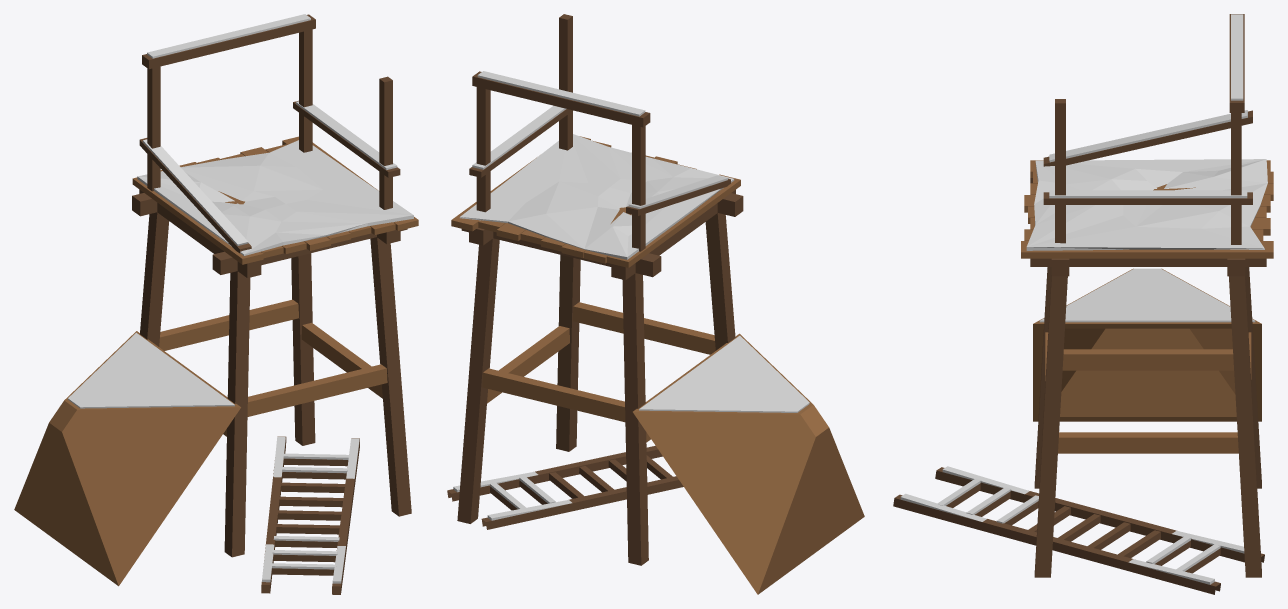
The model's file is GuardTower_build_snow_mat.fbx.
3 views of the same model, side by side, from view 1: azimuth 30°, elevation 25°; view 2: azimuth 150°, elevation 25°; view 3: azimuth 270°, elevation 25° (orthographic). The views are drawn at different scales.
Parts seen in each view (by area): view 1: GuardTower_build_snow_mat; view 2: GuardTower_build_snow_mat; view 3: GuardTower_build_snow_mat.
Boxes of the visible parts, x1,y1,x2,y2 form: GuardTower_build_snow_mat: (14,14,418,594); GuardTower_build_snow_mat: (447,14,864,594); GuardTower_build_snow_mat: (893,14,1273,594).
Bounding box in the file's own units: 2.62 × 3.23 × 2.35.
